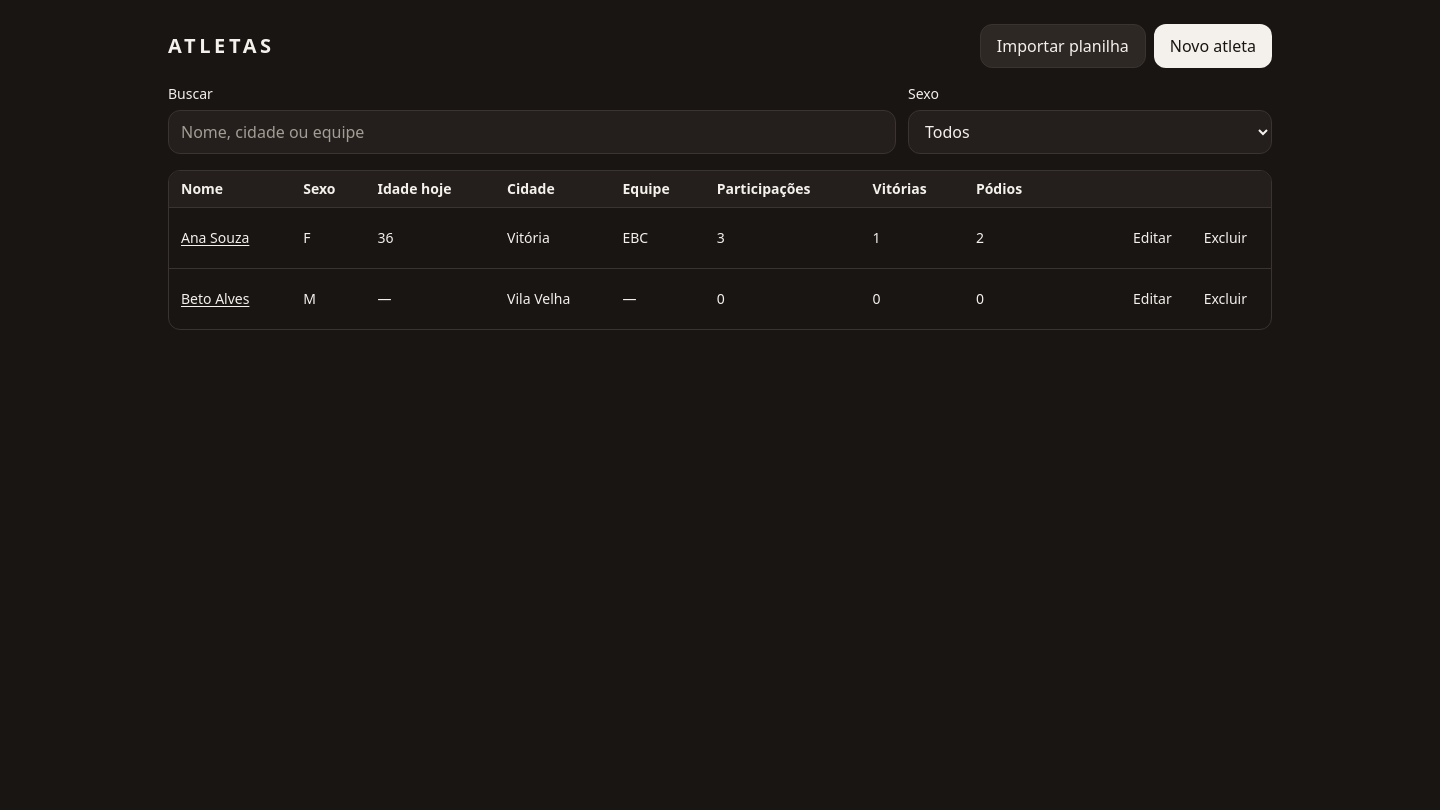
it: AthletesPage › opens the import dialog from the toolbar button
The image size is (1440, 810).
Expected: the link "Ana Souza" is shown, [181,228,249,247]
Click the button "Importar planilha".
click(1063, 46)  # box [980,24,1146,68]
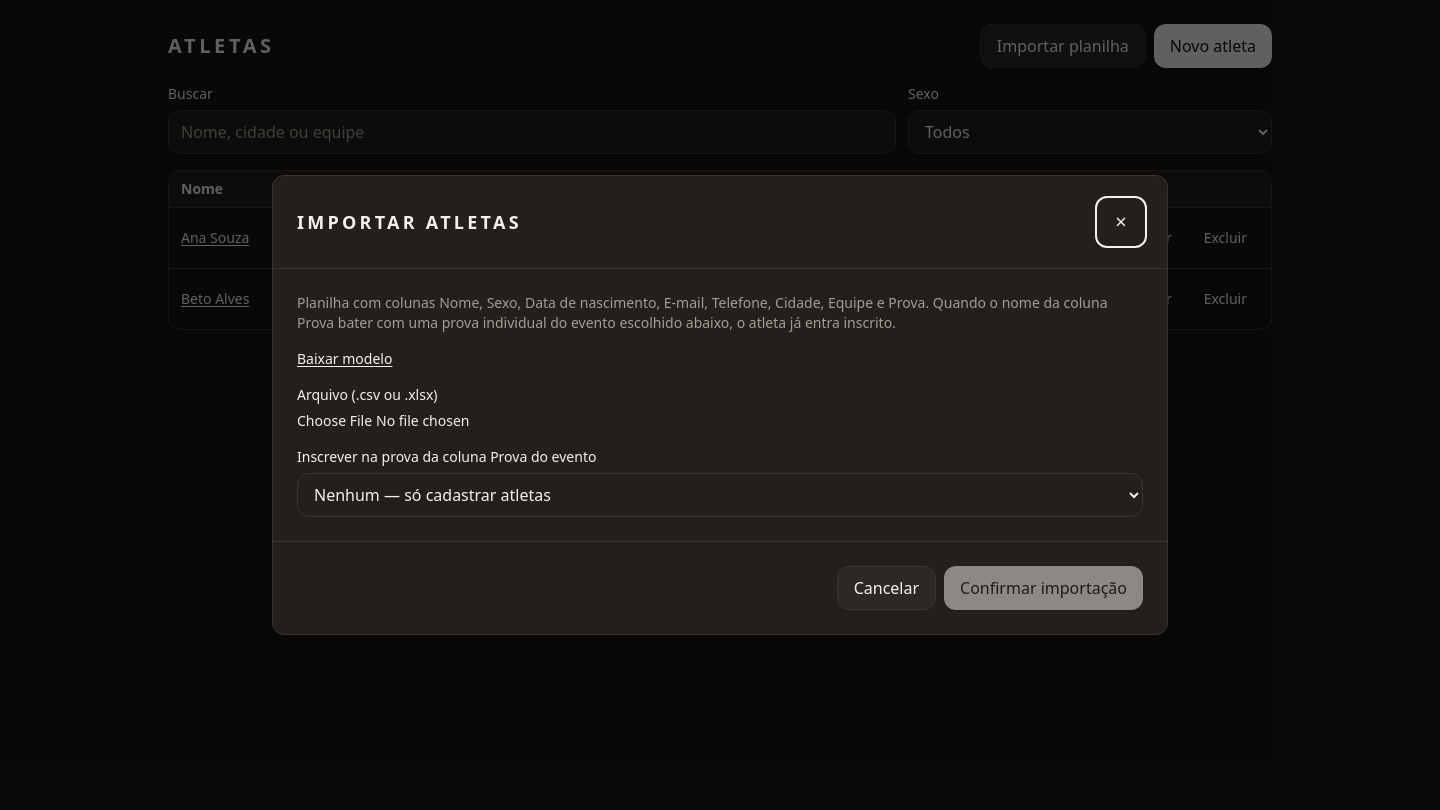
Now the file field with test id "import-file" is shown, box [297,411,1143,431]
